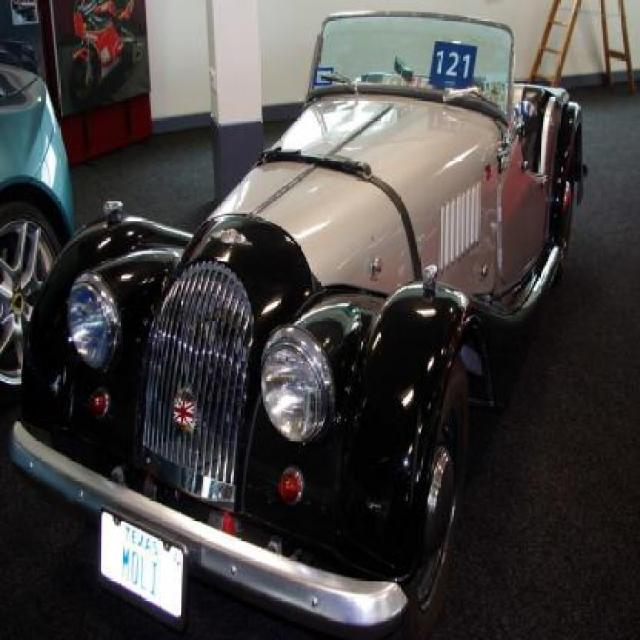License-Plates: (98, 504, 185, 614)
